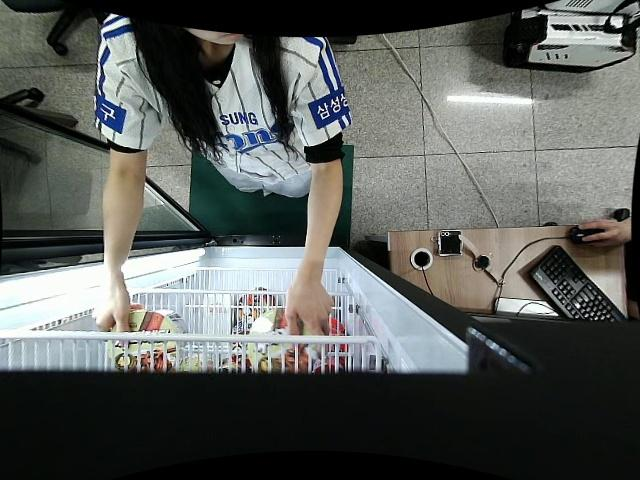00_hand: (287, 283, 336, 353), (89, 275, 131, 348)
03_chapagetti_L: (106, 307, 188, 374), (248, 309, 315, 374)
